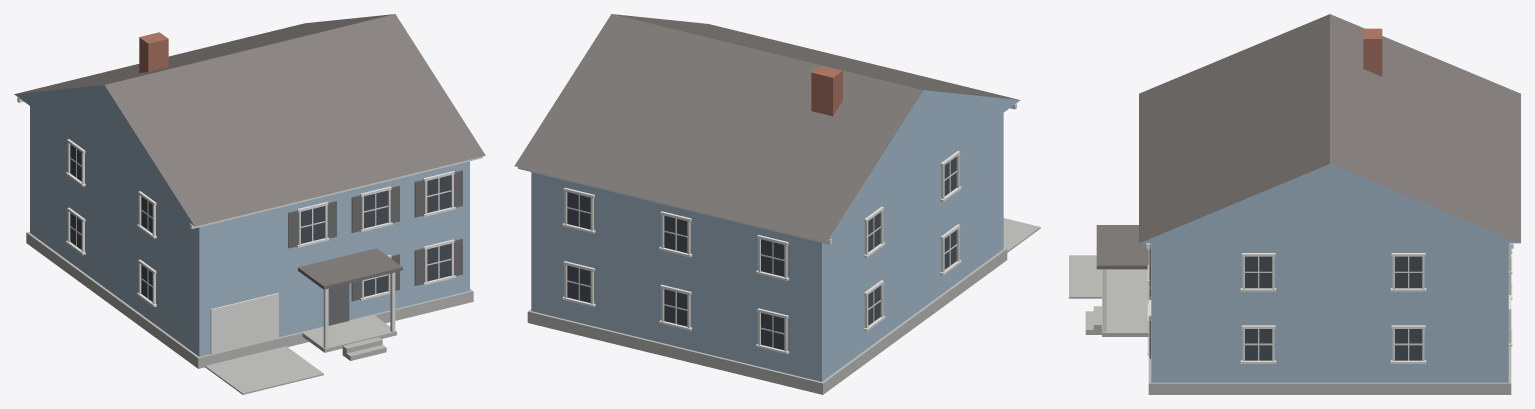
File: SM_House_2F_B.fbx
3 renders of one model, left to right at view 1: azimuth 30°, elevation 25°; view 2: azimuth 150°, elevation 25°; view 3: azimuth 270°, elevation 25°, orthographic. The views are drawn at different scales.
Parts seen in each view (by area): view 1: SM_House_2F_B_LOD0; view 2: SM_House_2F_B_LOD0; view 3: SM_House_2F_B_LOD0.
Part boxes in pixels (box(x1,y1,x2,y2)): SM_House_2F_B_LOD0: box(14, 14, 485, 394); SM_House_2F_B_LOD0: box(514, 14, 1040, 394); SM_House_2F_B_LOD0: box(1069, 14, 1520, 394).
Size of what is drawn, in the model's own units: 12.9 by 10.09 by 16.45.
